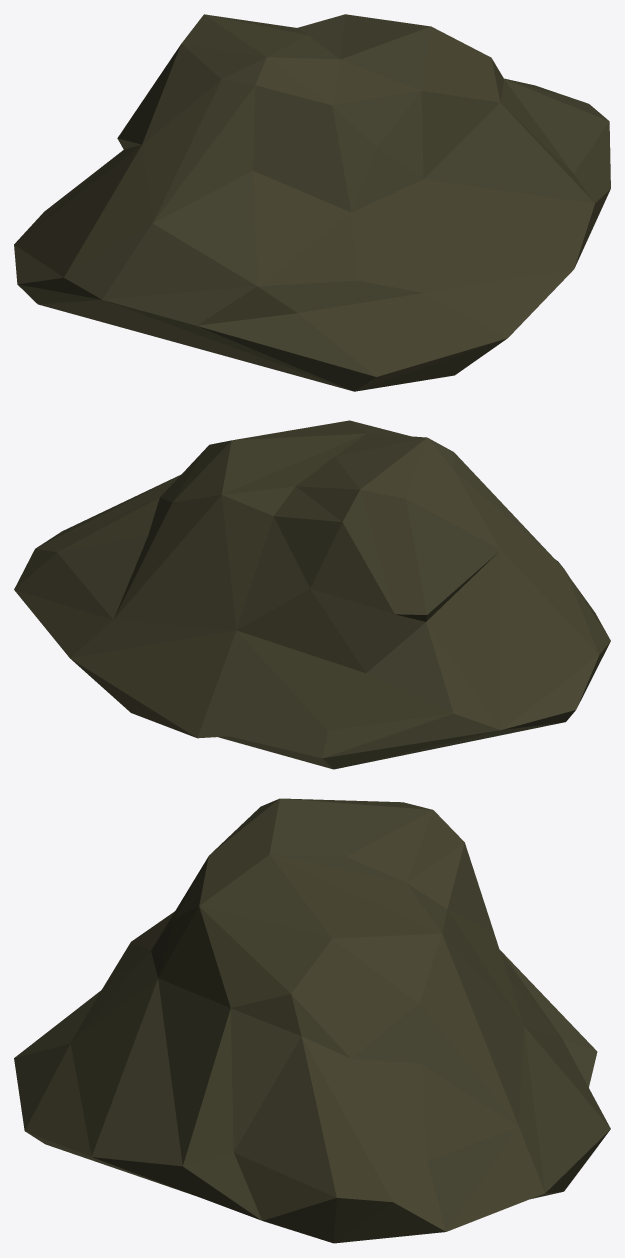
The model's file is ADDON_STONES_STONE_02_BIG_124P.OBJ.
3 renders of one model, top to bottom at view 1: azimuth 30°, elevation 25°; view 2: azimuth 150°, elevation 25°; view 3: azimuth 270°, elevation 25°, orthographic. The views are drawn at different scales.
Parts seen in each view (by area): view 1: ADDON_STONES_STONE_02_BIG_124P; view 2: ADDON_STONES_STONE_02_BIG_124P; view 3: ADDON_STONES_STONE_02_BIG_124P.
Part boxes in pixels (<box>): ADDON_STONES_STONE_02_BIG_124P: <box>14,14,610,391</box>; ADDON_STONES_STONE_02_BIG_124P: <box>14,420,610,769</box>; ADDON_STONES_STONE_02_BIG_124P: <box>14,798,610,1243</box>.
Bounding box in the file's own units: 7.27 × 3.32 × 5.74.
